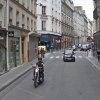Motorcycle: (28, 55, 47, 91)
